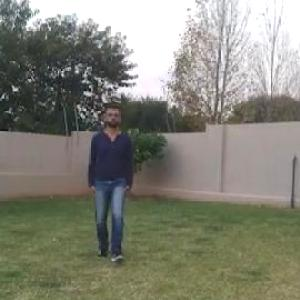follow: (91, 105, 130, 259)
